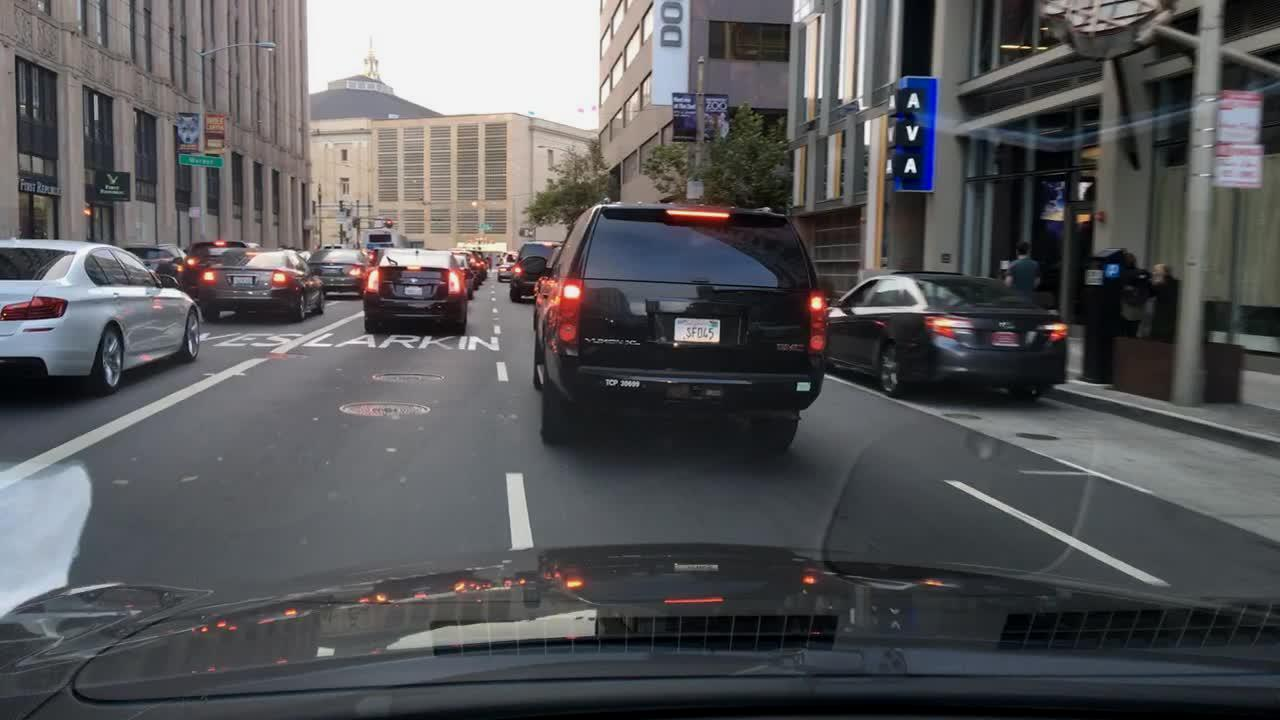GMC: (772, 337, 808, 358)
